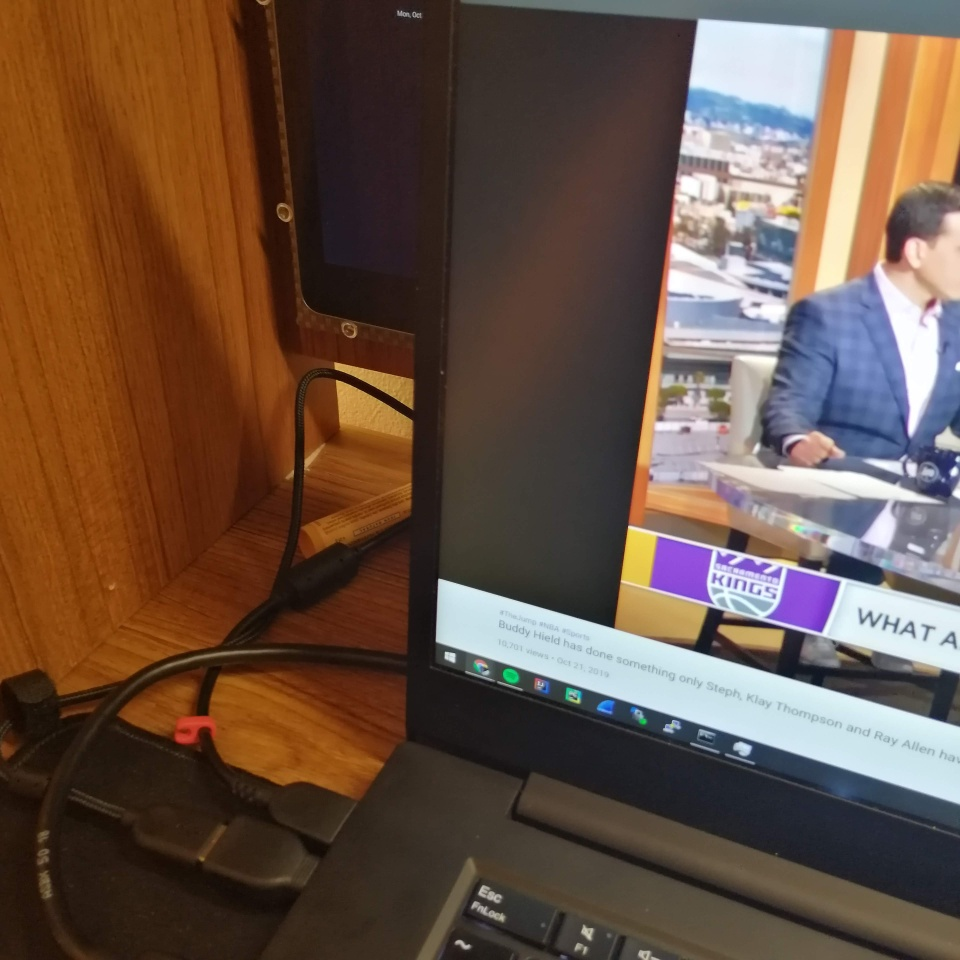chapstick: (295, 467, 412, 581)
